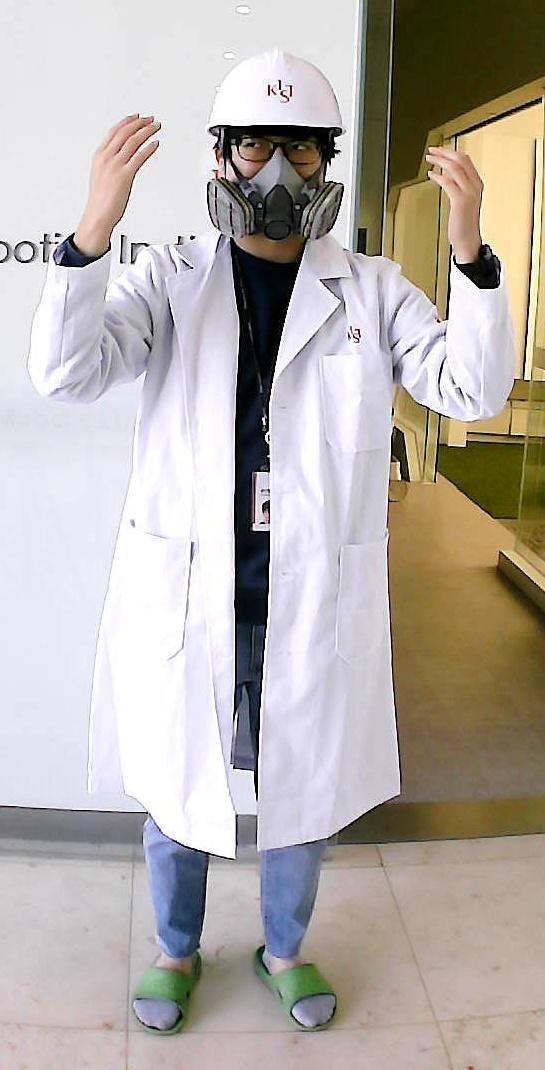lab_coat: (111, 244, 424, 805)
